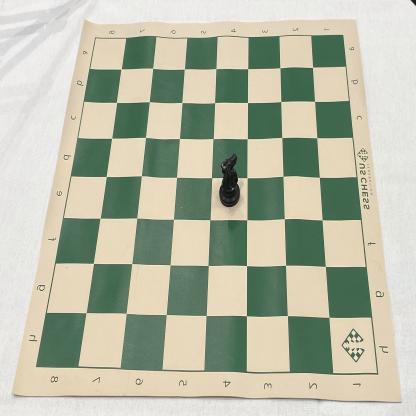black-knight: (219, 154, 241, 208)
